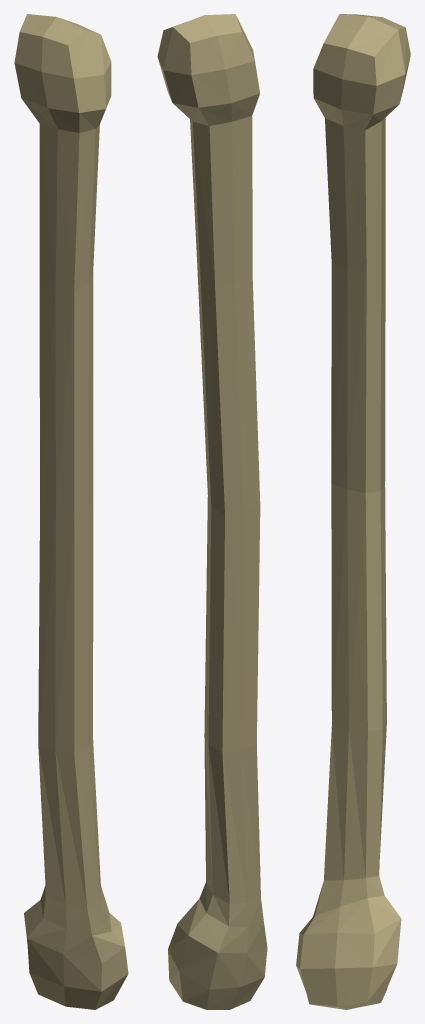
Rendered from bluntLightBone.glb.
The picture shows the model from 3 angles, left to right: view 1: azimuth 90°, elevation 25°; view 2: azimuth 150°, elevation 25°; view 3: azimuth 270°, elevation 25°; orthographic projection.
Parts seen in each view (by area): view 1: bluntLightBone; view 2: bluntLightBone; view 3: bluntLightBone.
Boxes of the visible parts, x1,y1,x2,y2 form: bluntLightBone: (14,14,128,1009); bluntLightBone: (157,14,267,1009); bluntLightBone: (296,14,410,1009).
Bounding box in the file's own units: 0.0695 × 0.737 × 0.0775.
